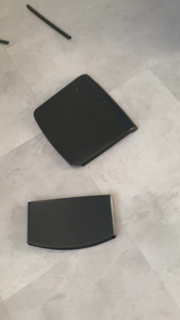Back: (26, 192, 122, 252)
Seat: (30, 72, 142, 172)
